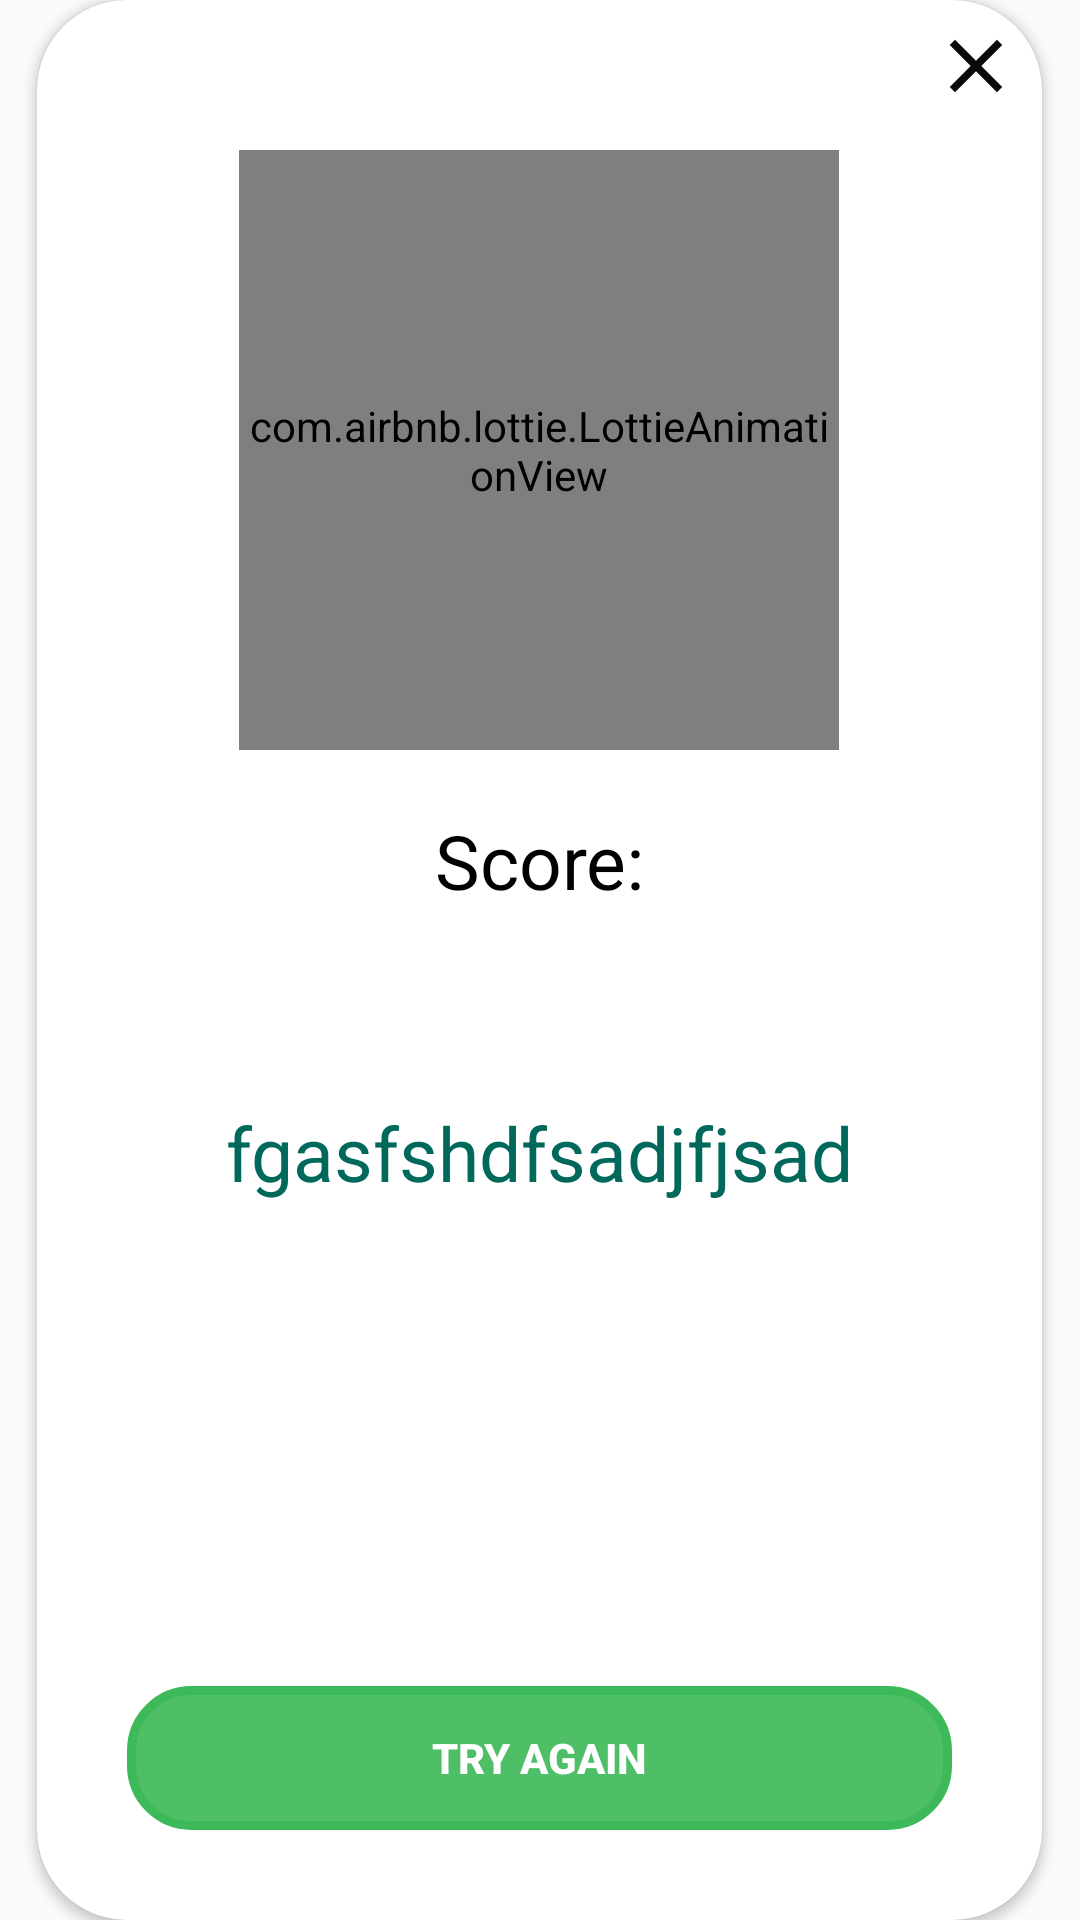

Screen size 1080px×1920px. Icon name, then its center in pixels as (x,y):
close: (976,66)
